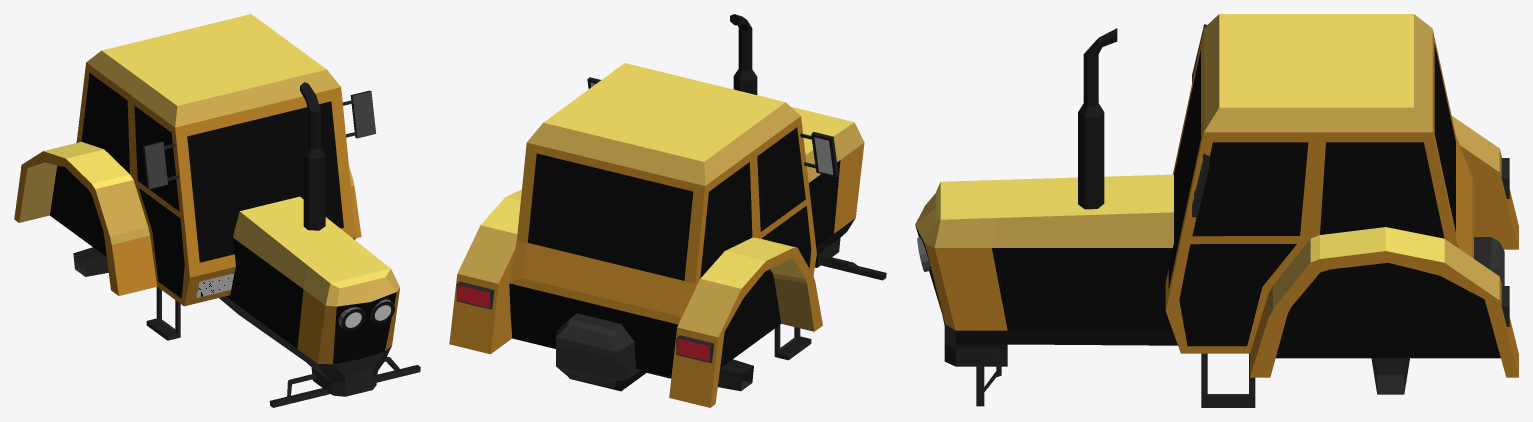
File: Tractor.005.fbx
The picture shows the model from 3 angles, left to right: view 1: azimuth 30°, elevation 25°; view 2: azimuth 150°, elevation 25°; view 3: azimuth 270°, elevation 25°; orthographic projection. The views are drawn at different scales.
Visible parts, largest first — view 1: Tractor.005; view 2: Tractor.005; view 3: Tractor.005.
Part boxes in pixels (x1=…): Tractor.005: x1=14, y1=14, x2=420, y2=407; Tractor.005: x1=449, y1=14, x2=886, y2=407; Tractor.005: x1=915, y1=14, x2=1518, y2=407.
Bounding box in the file's own units: 2.11 × 2.2 × 3.54.
